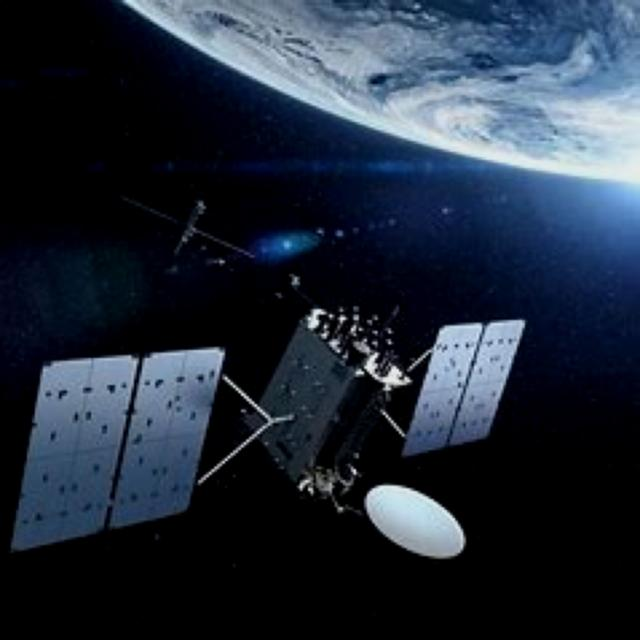satellite: (0, 214, 549, 567)
